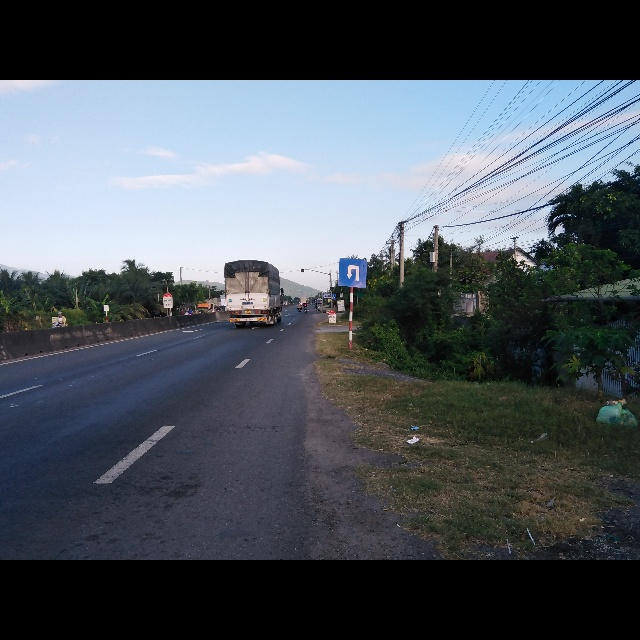Khu vực quay đầu xe: (338, 257, 367, 289)
